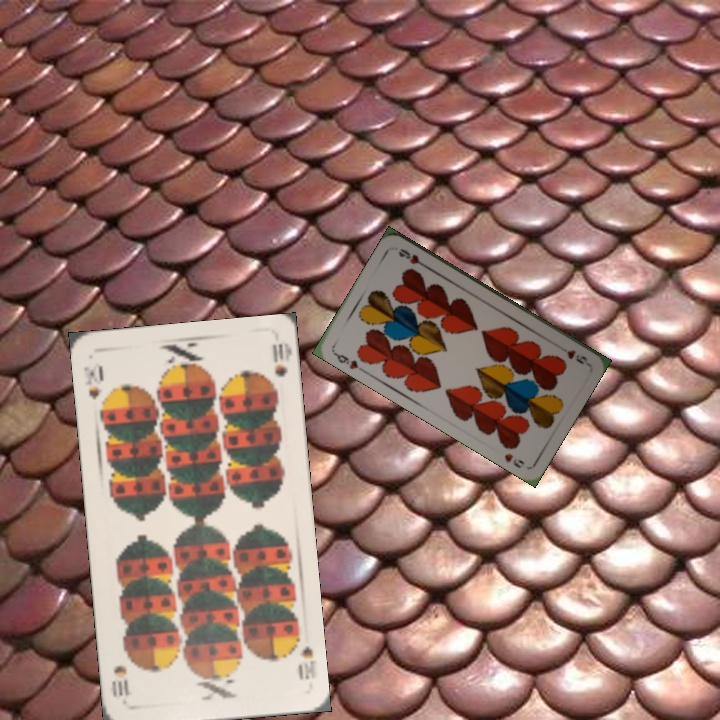H9: (554, 341, 591, 367), (329, 348, 366, 374)
S10: (289, 628, 319, 682), (79, 363, 104, 402)
